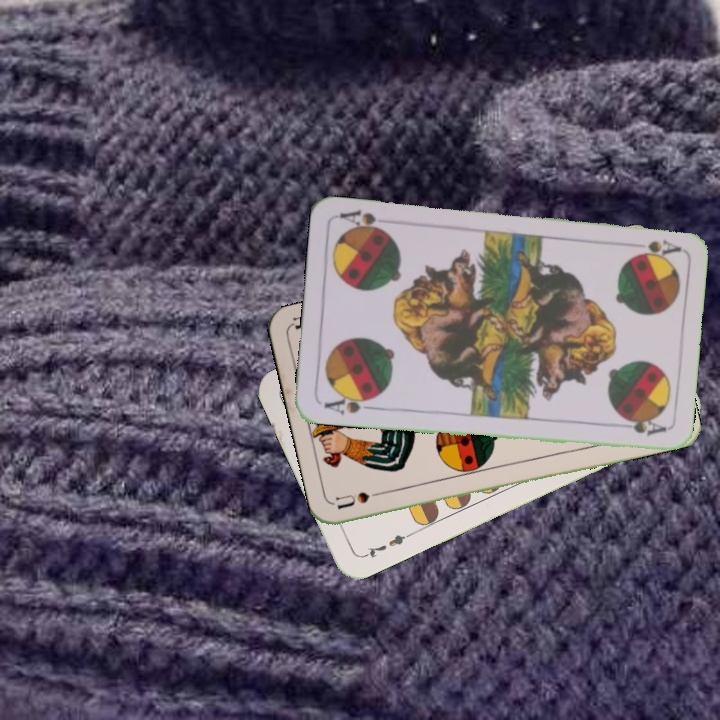E7: (359, 529, 414, 561)
SA: (320, 390, 378, 418), (624, 236, 683, 259)
SU: (332, 485, 392, 512)
